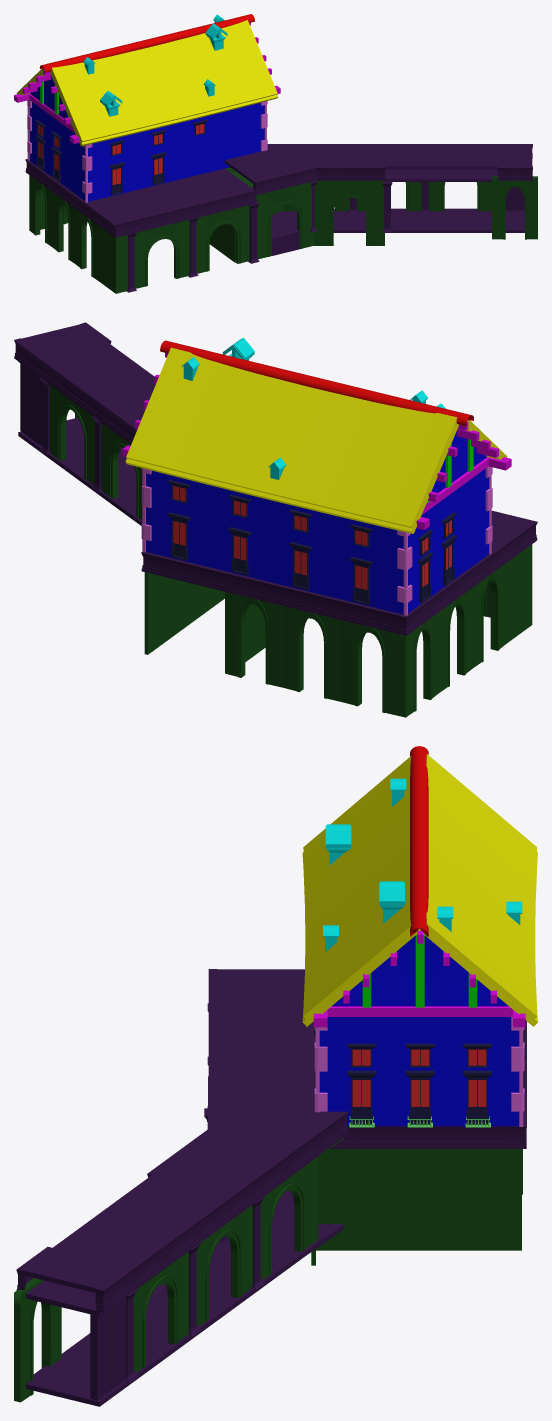
The model's file is Gray_house_unity1.fbx.
3 renders of one model, top to bottom at view 1: azimuth 30°, elevation 25°; view 2: azimuth 150°, elevation 25°; view 3: azimuth 270°, elevation 25°, orthographic. The views are drawn at different scales.
Visible parts, largest first — view 1: Gray_house_unity1; view 2: Gray_house_unity1; view 3: Gray_house_unity1.
Part boxes in pixels (x1=…): Gray_house_unity1: x1=14, y1=14, x2=537, y2=293; Gray_house_unity1: x1=14, y1=322, x2=537, y2=717; Gray_house_unity1: x1=14, y1=746, x2=537, y2=1406.
Bounding box in the file's own units: 20.18 × 9.36 × 12.85.
